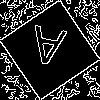A: (25, 25, 68, 76)
